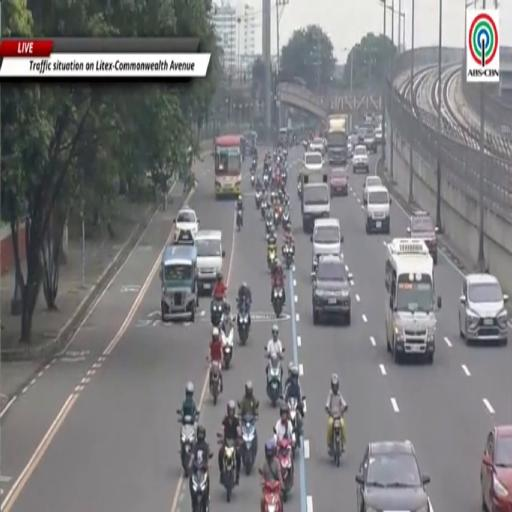bus: (385, 238, 441, 363), (215, 135, 241, 198)
car: (356, 441, 431, 511), (459, 274, 508, 345), (312, 255, 352, 325), (481, 425, 511, 511), (195, 230, 225, 295), (407, 211, 438, 264), (366, 186, 391, 234), (174, 207, 199, 235), (363, 175, 382, 204), (330, 167, 348, 197), (352, 144, 369, 173), (363, 126, 377, 152), (304, 152, 323, 170), (309, 138, 324, 154), (375, 128, 383, 145), (347, 136, 353, 158)
jeepney: (161, 231, 198, 322)
motorcycle: (177, 410, 198, 477), (218, 434, 236, 502), (240, 415, 257, 475), (277, 439, 293, 501), (191, 463, 209, 511), (267, 357, 282, 406), (330, 415, 344, 467), (288, 397, 302, 447), (221, 319, 233, 370), (237, 300, 250, 345), (263, 482, 282, 511), (210, 361, 221, 405), (211, 300, 224, 327), (273, 286, 283, 317), (283, 244, 294, 268), (268, 246, 276, 271), (282, 208, 290, 230), (274, 205, 282, 226), (236, 210, 242, 231), (261, 199, 267, 219), (255, 191, 261, 209), (266, 219, 273, 234), (251, 158, 257, 173), (282, 169, 287, 186), (263, 173, 269, 187), (298, 182, 302, 199), (250, 174, 255, 187), (283, 150, 288, 161), (303, 140, 308, 151)
truck: (301, 168, 330, 233), (327, 115, 348, 165)
